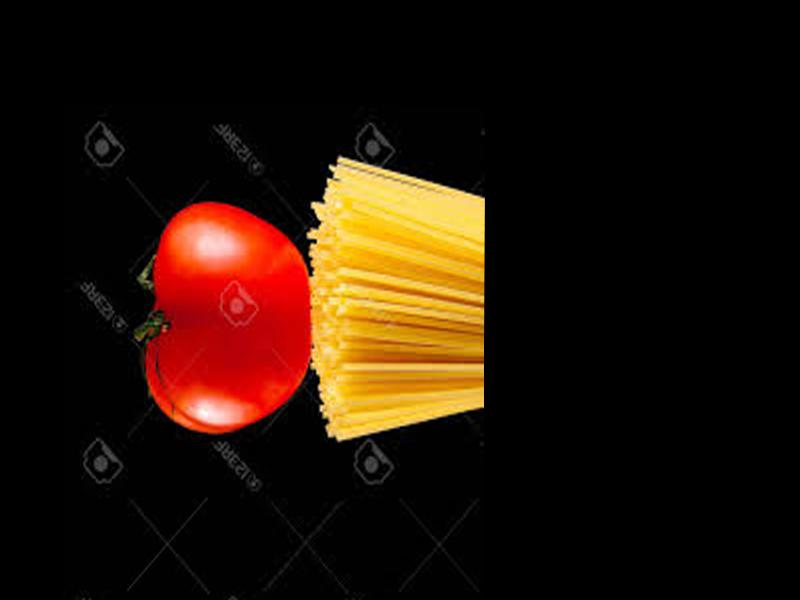Tomato: (144, 203, 313, 430)
